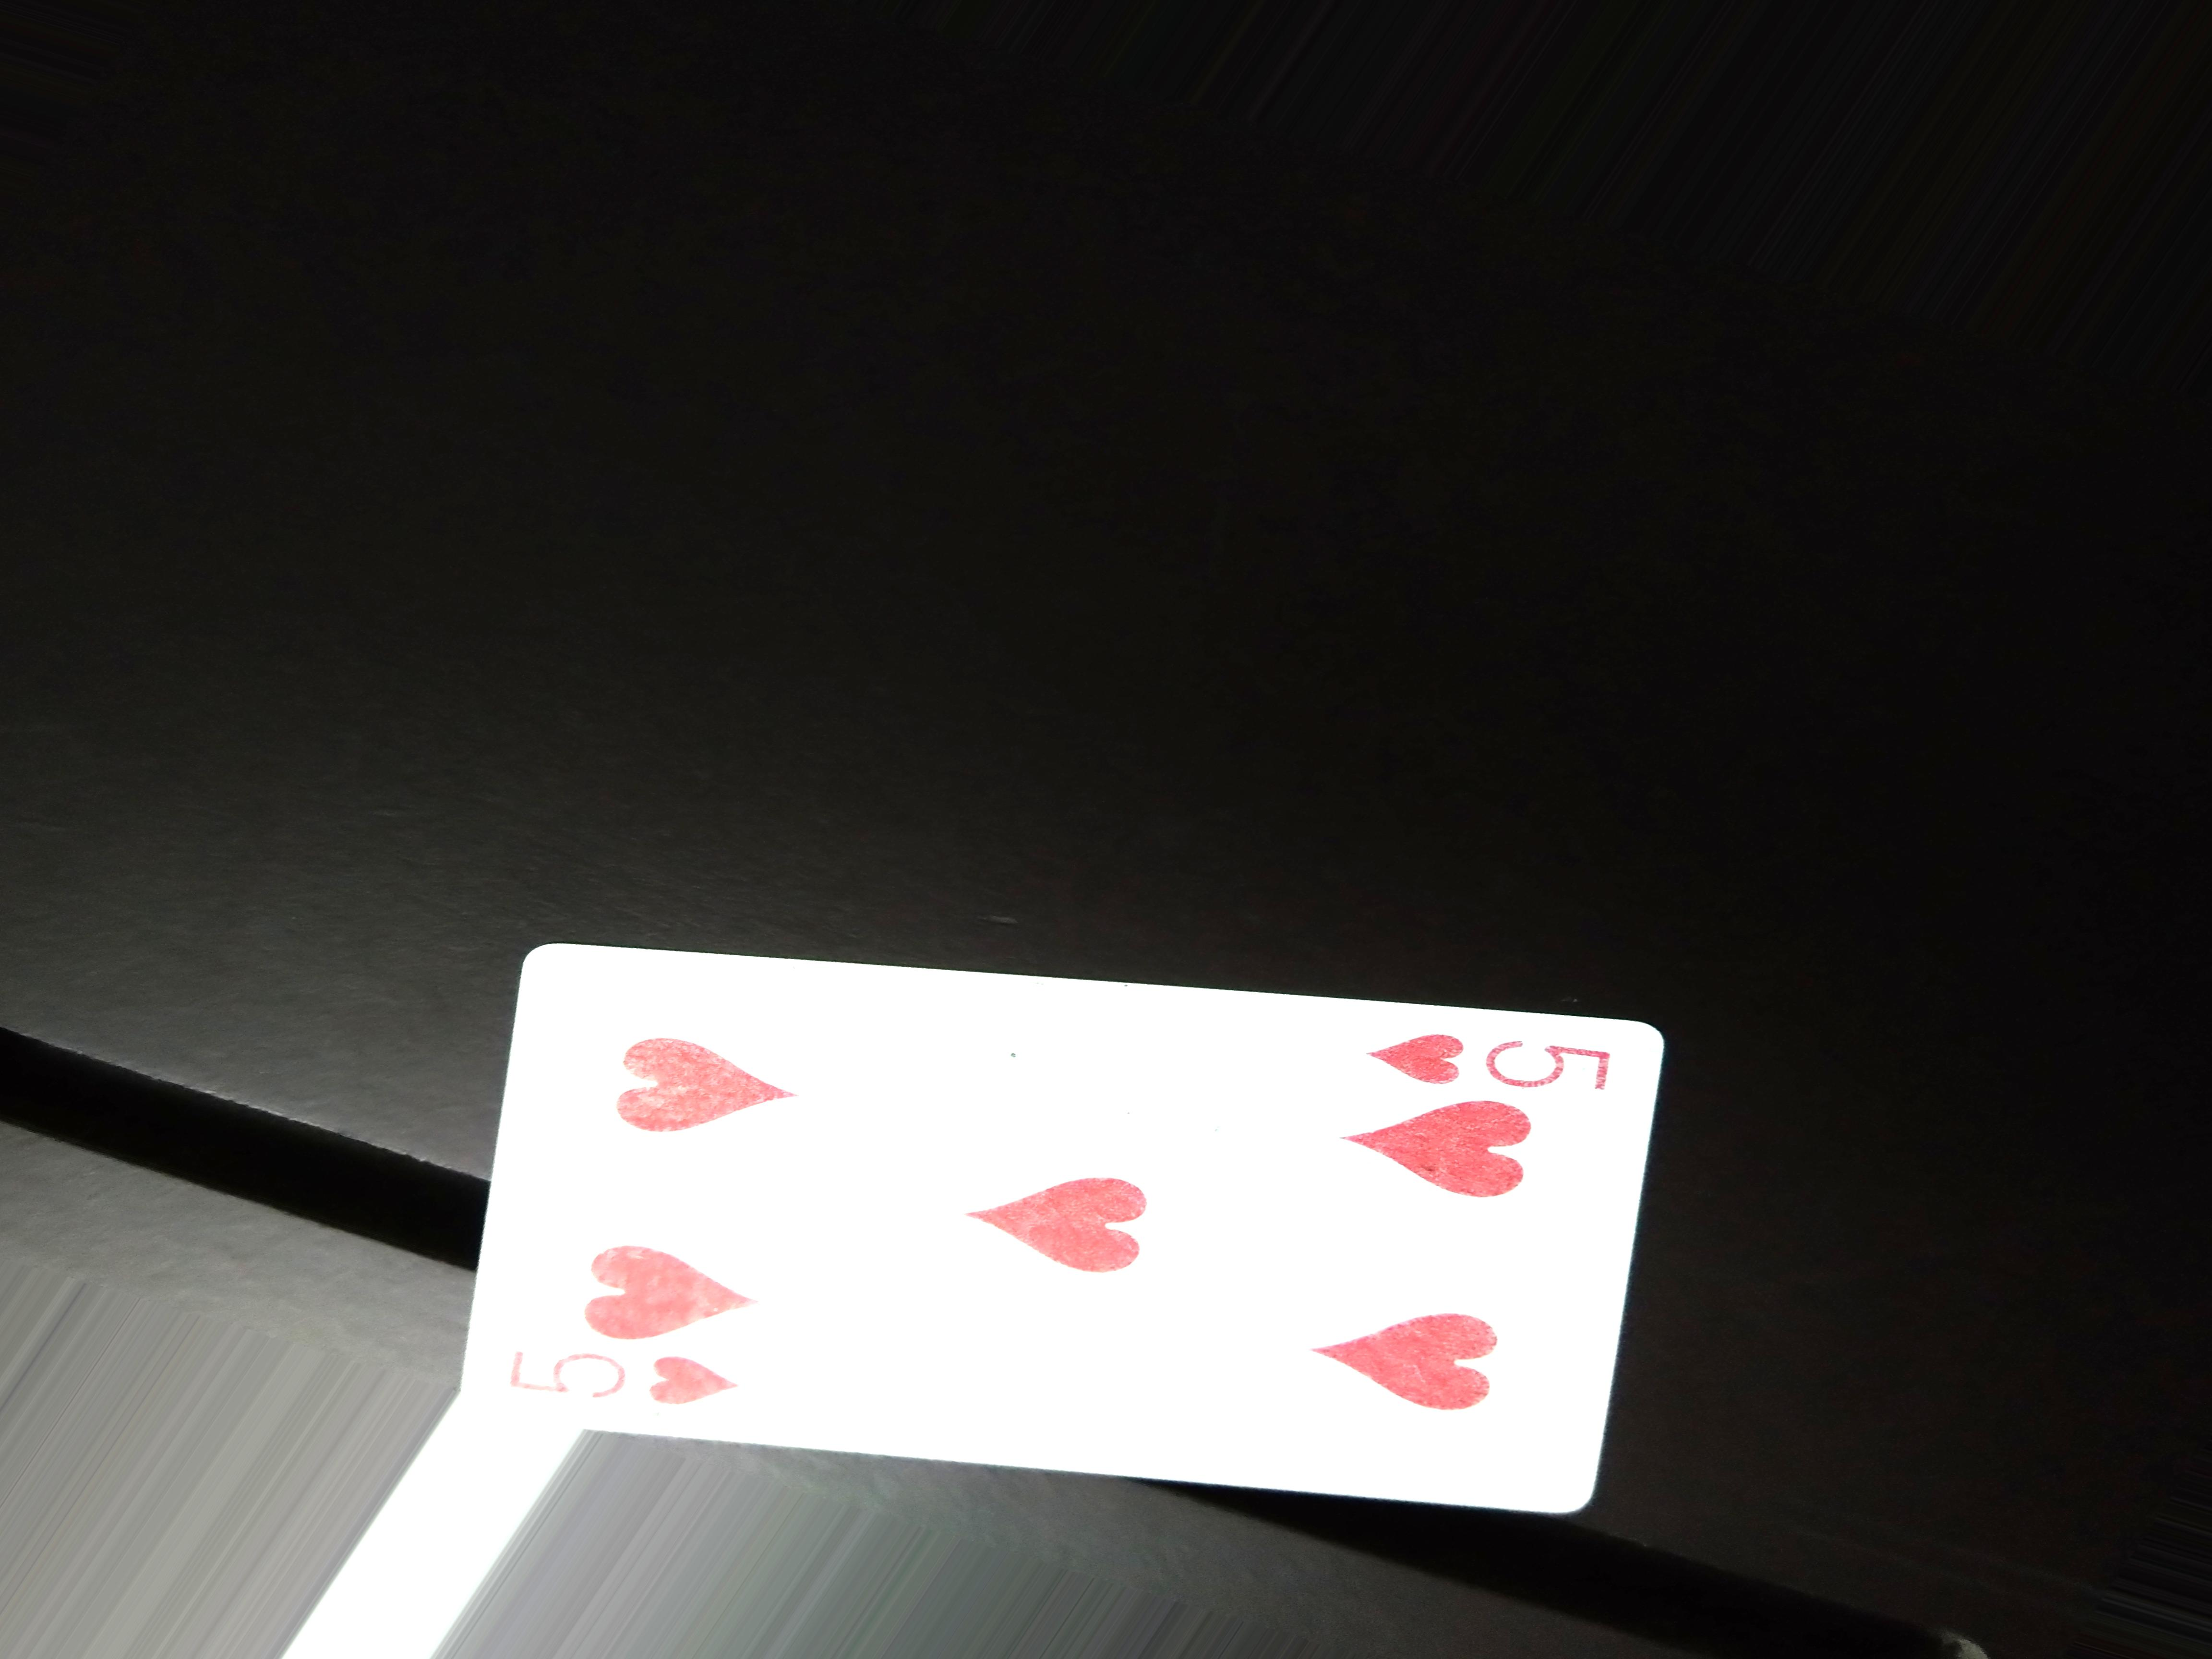5H: (1348, 1018, 1625, 1101)
